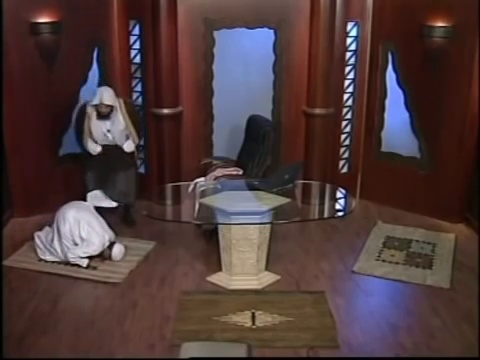sujud: (31, 202, 129, 269)
